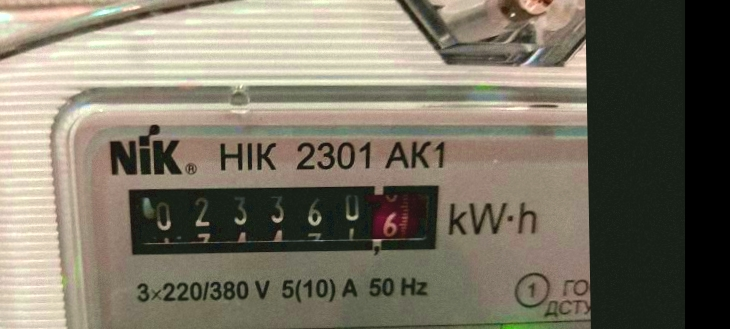0: (151, 197, 173, 231), (342, 190, 360, 222)
2: (189, 194, 213, 228)
3: (227, 193, 249, 226), (266, 192, 286, 223)
6: (302, 194, 323, 226), (378, 208, 399, 237)
screen: (109, 166, 453, 270)
